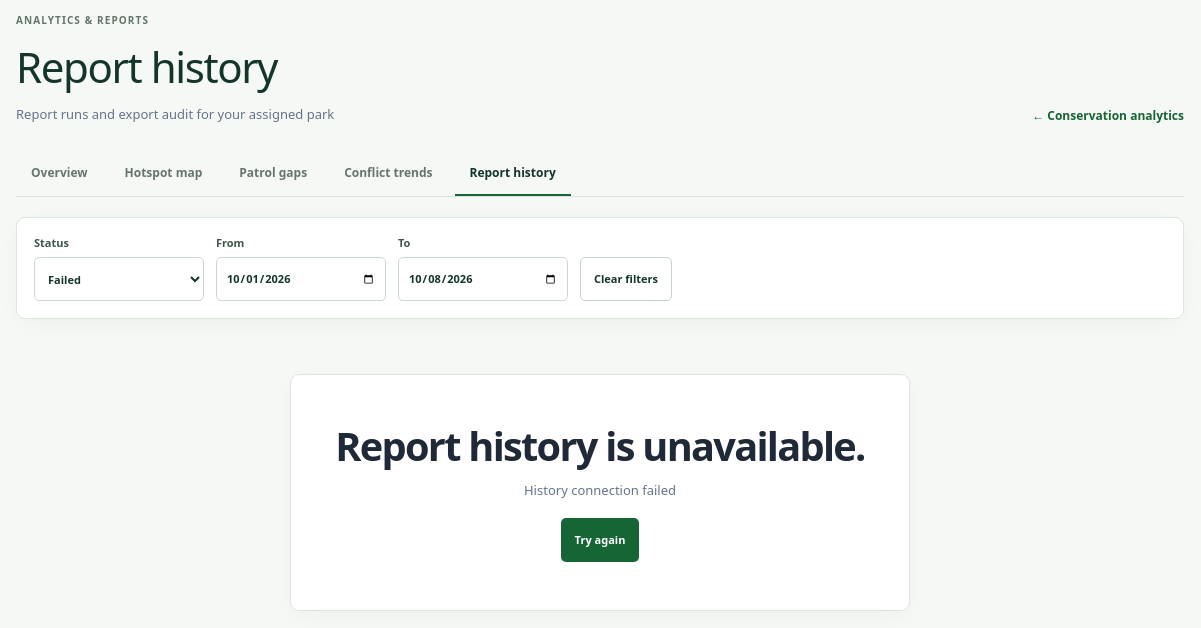
Test: M4 P9 spatial and history edge cases › recovers history fetch errors and clears date/status filters
Expected: the message shows "History connection failed", top-left (524, 481), bottom-right (676, 499)
Click the button "Try again": (600, 540) top-left (561, 518), bottom-right (639, 562)
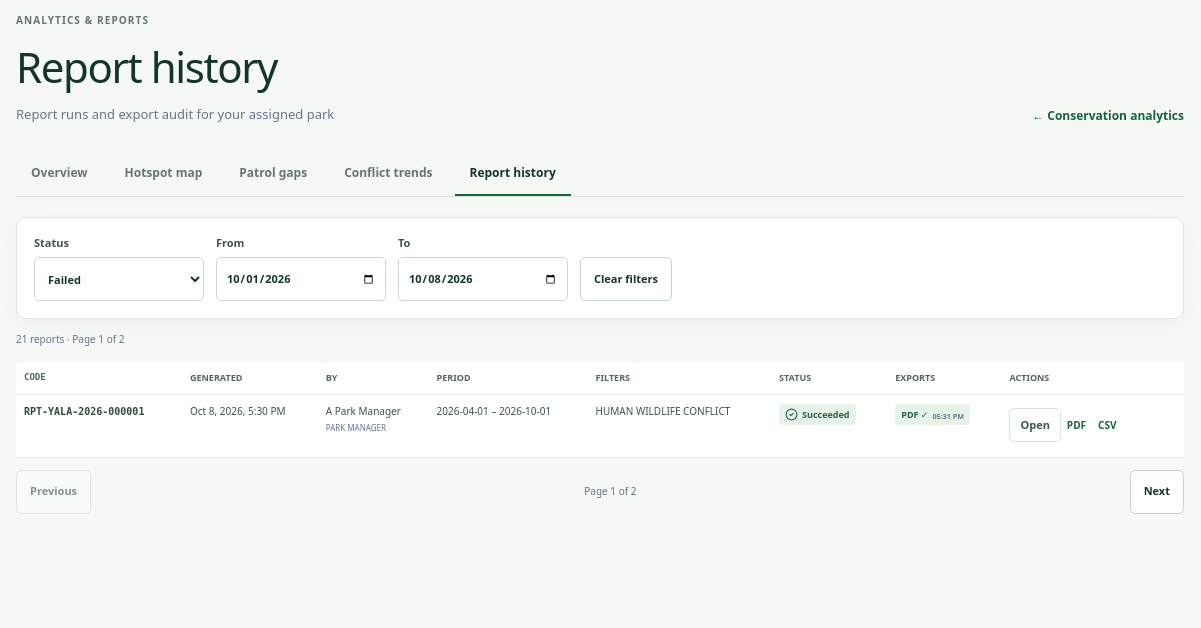
Expected: the column heading "RPT-YALA-2026-000001" is shown, top-left (16, 394), bottom-right (182, 457)
In the date field named "History from date": (301, 279) top-left (216, 257), bottom-right (386, 301), type "2026-09-01"
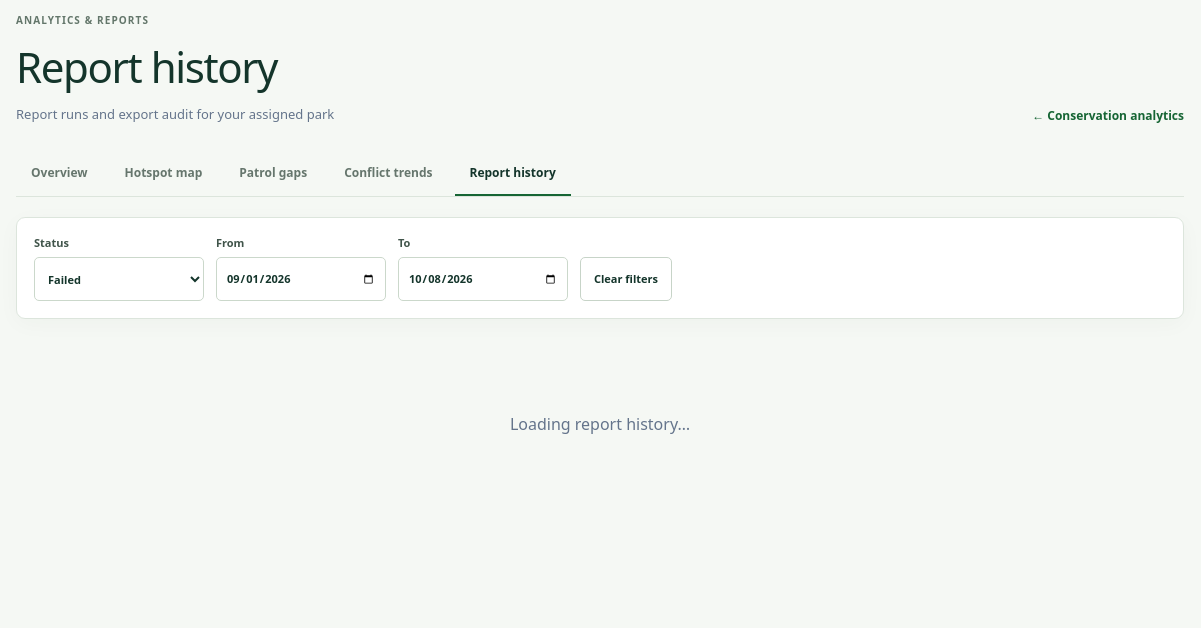
In the date field named "History to date": (483, 279) top-left (398, 257), bottom-right (568, 301), type "2026-10-09"
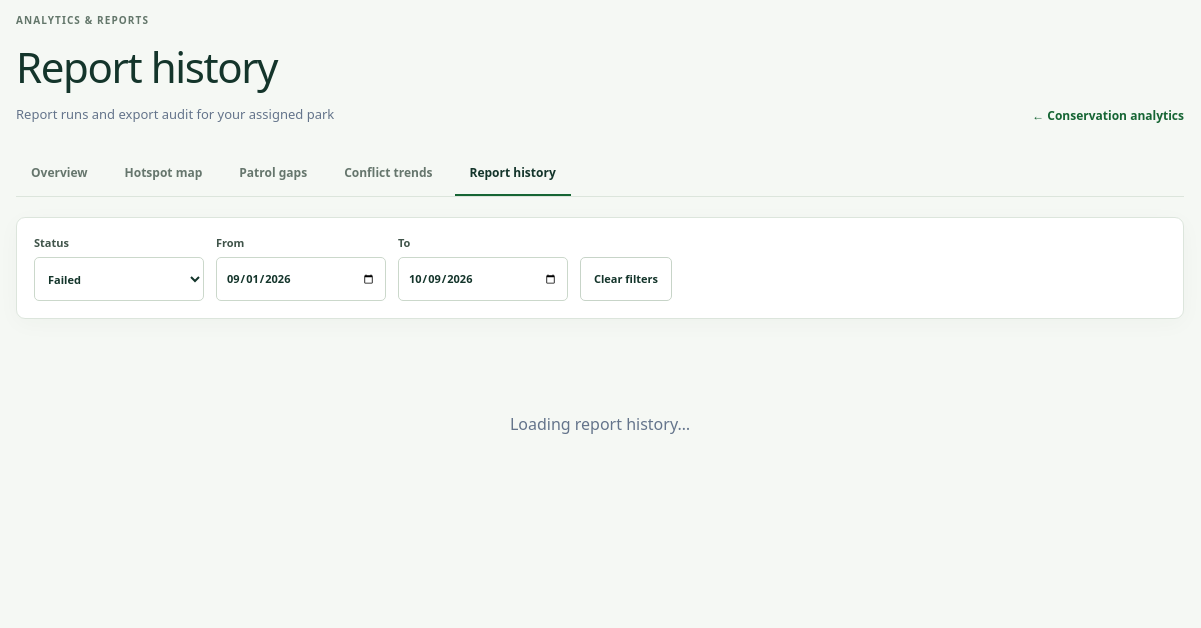
Click the button "Clear filters": (626, 279) top-left (580, 257), bottom-right (672, 301)
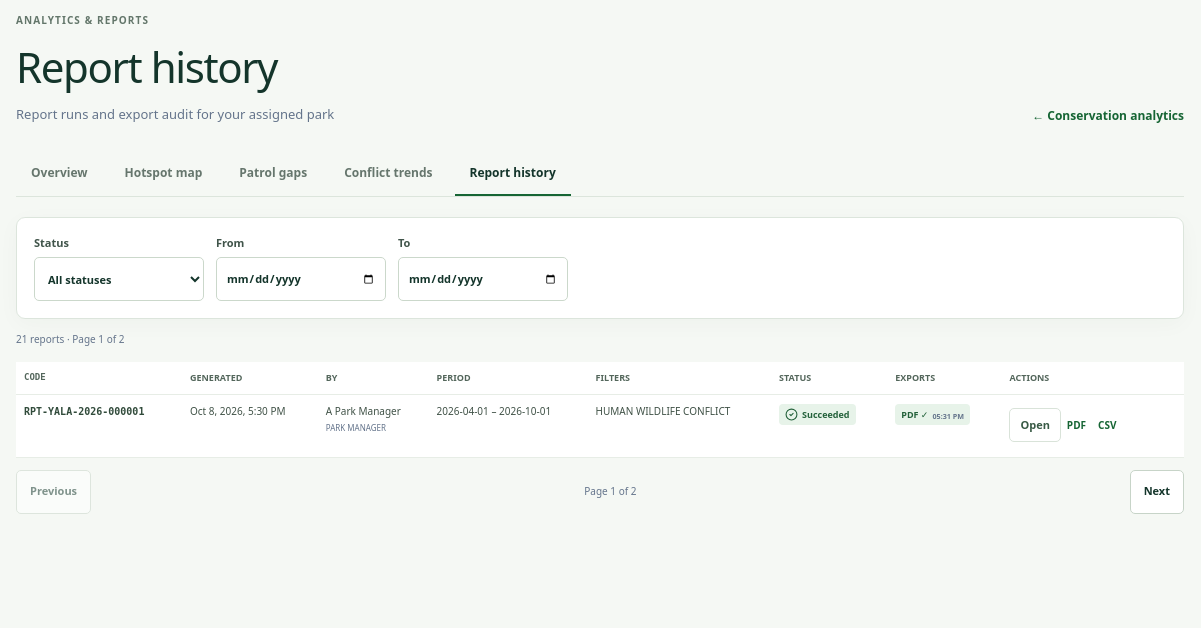
Click the button "Next": (1157, 492) top-left (1130, 470), bottom-right (1184, 514)
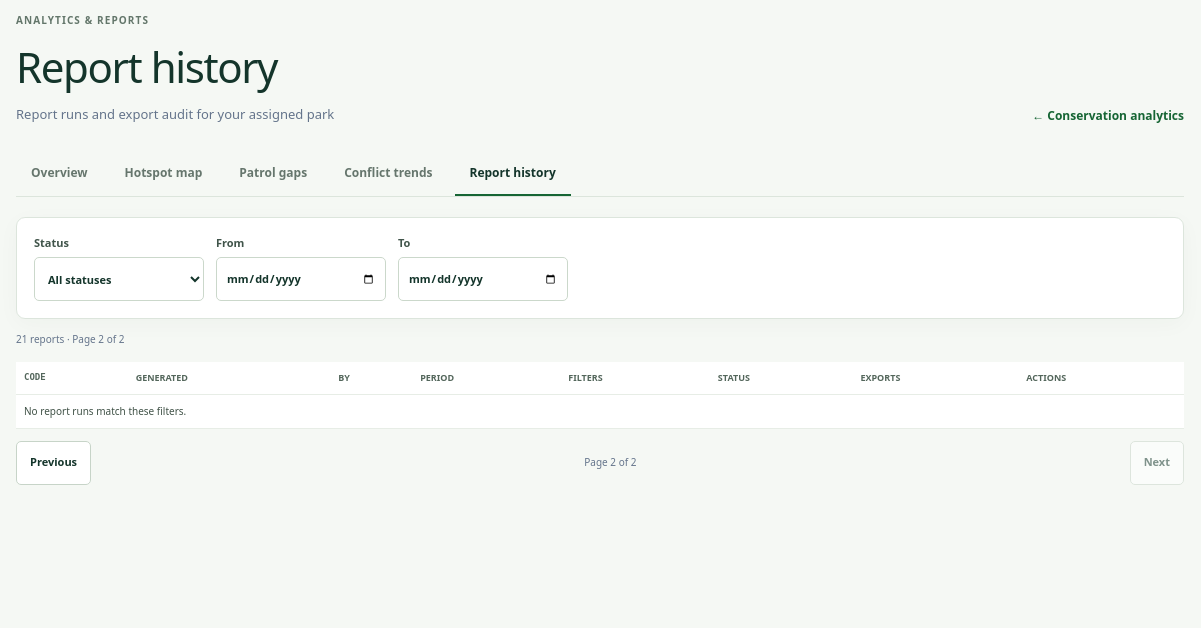
Expected: the text "No report runs match these filters." is shown, top-left (16, 394), bottom-right (1184, 428)
Click the button "Previous": (54, 462) top-left (16, 440), bottom-right (91, 484)
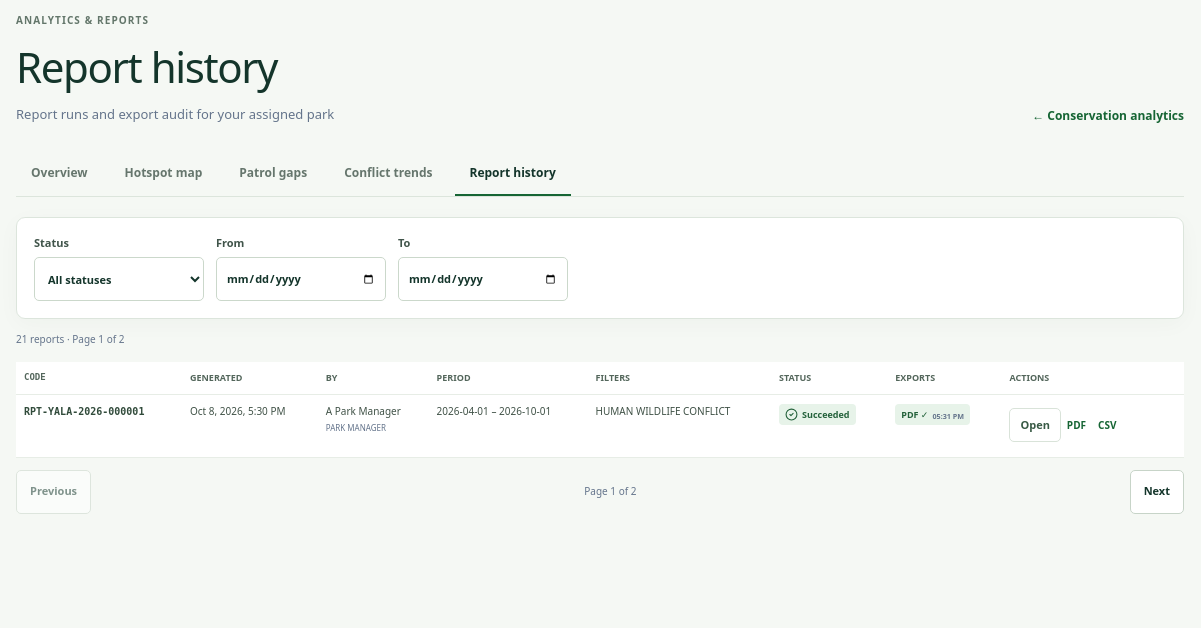
Expected: the column heading "RPT-YALA-2026-000001" is shown, top-left (16, 394), bottom-right (182, 457)
